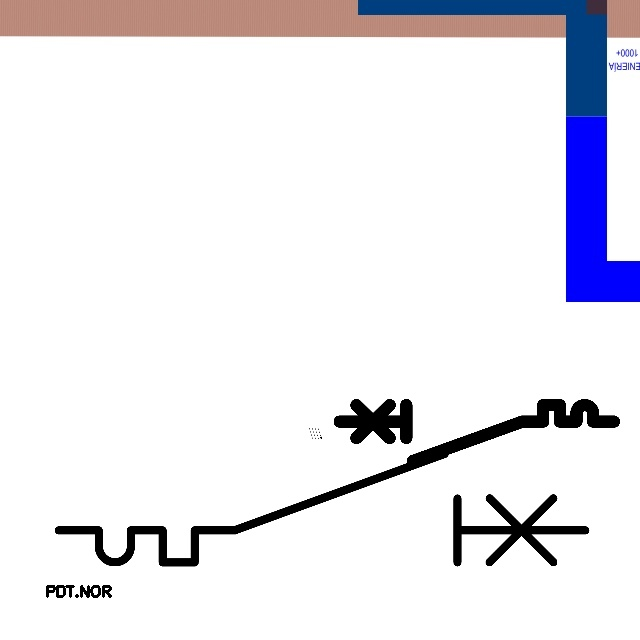interruptor_termomagnetico: (45, 440, 599, 576), (332, 398, 621, 468)
